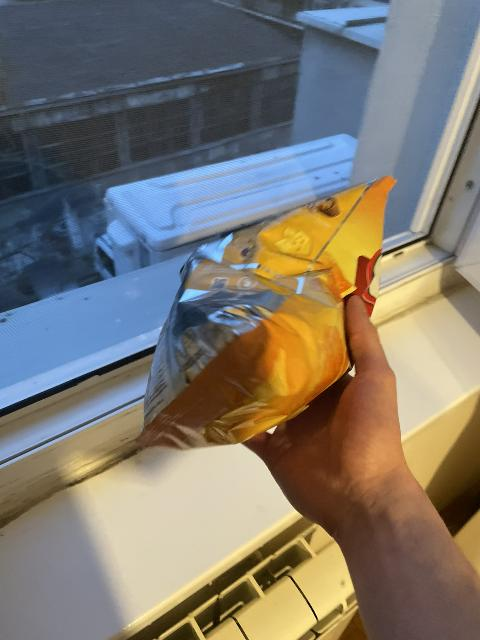Chio Cascaval 125g: (135, 173, 396, 446)
